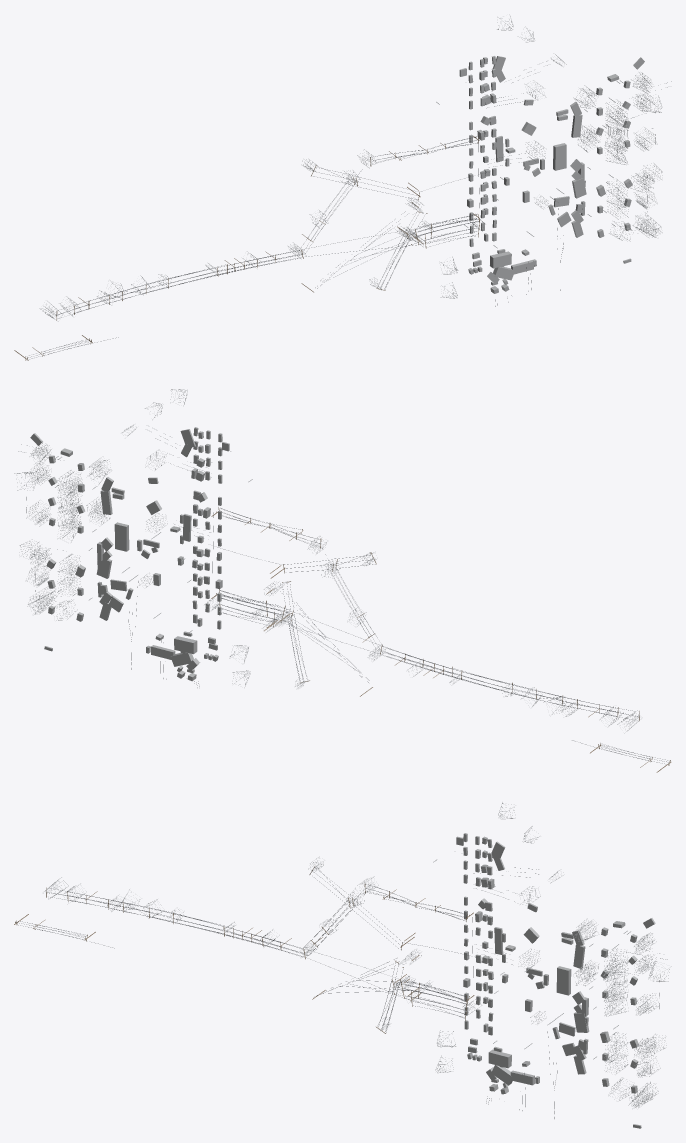
The model's file is white_river_models_v2.glb.
3 renders of one model, top to bottom at view 1: azimuth 30°, elevation 25°; view 2: azimuth 150°, elevation 25°; view 3: azimuth 330°, elevation 25°, orthographic. The views are drawn at different scales.
Visible parts, largest first — view 1: yard_blocks, yard_towers, wires, corridor_towers; view 2: yard_blocks, yard_towers, wires, corridor_towers; view 3: yard_blocks, yard_towers, wires, corridor_towers.
Boxes of the visible parts, <box> form: yard_blocks: <box>459,56,644,293</box>; yard_towers: <box>440,14,662,298</box>; wires: <box>28,61,671,359</box>; corridor_towers: <box>39,149,485,321</box>; yard_blocks: <box>30,427,229,681</box>; yard_towers: <box>14,389,250,687</box>; wires: <box>18,434,668,763</box>; corridor_towers: <box>204,536,642,733</box>; yard_blocks: <box>456,833,655,1128</box>; yard_towers: <box>435,802,671,1108</box>; wires: <box>16,866,667,1118</box>; corridor_towers: <box>43,856,482,1025</box>.
Bounding box in the file's own units: 543 × 233 × 56.49.
